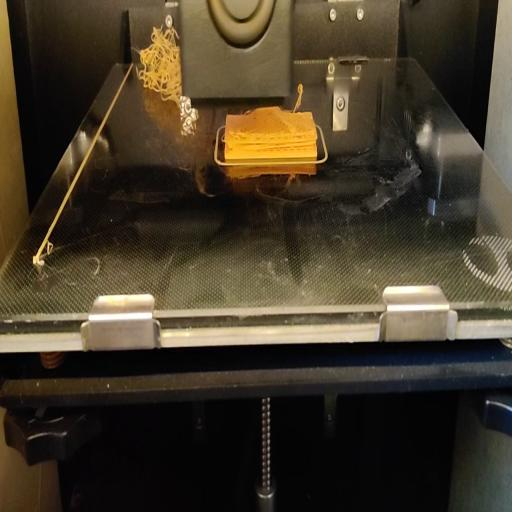spaghetti: (136, 24, 180, 115)
